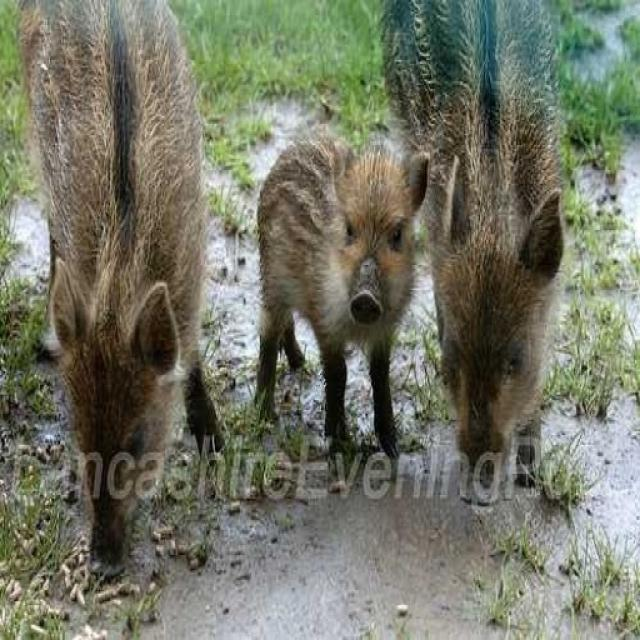pig: (350, 0, 609, 489), (54, 5, 240, 582), (238, 113, 435, 503)
